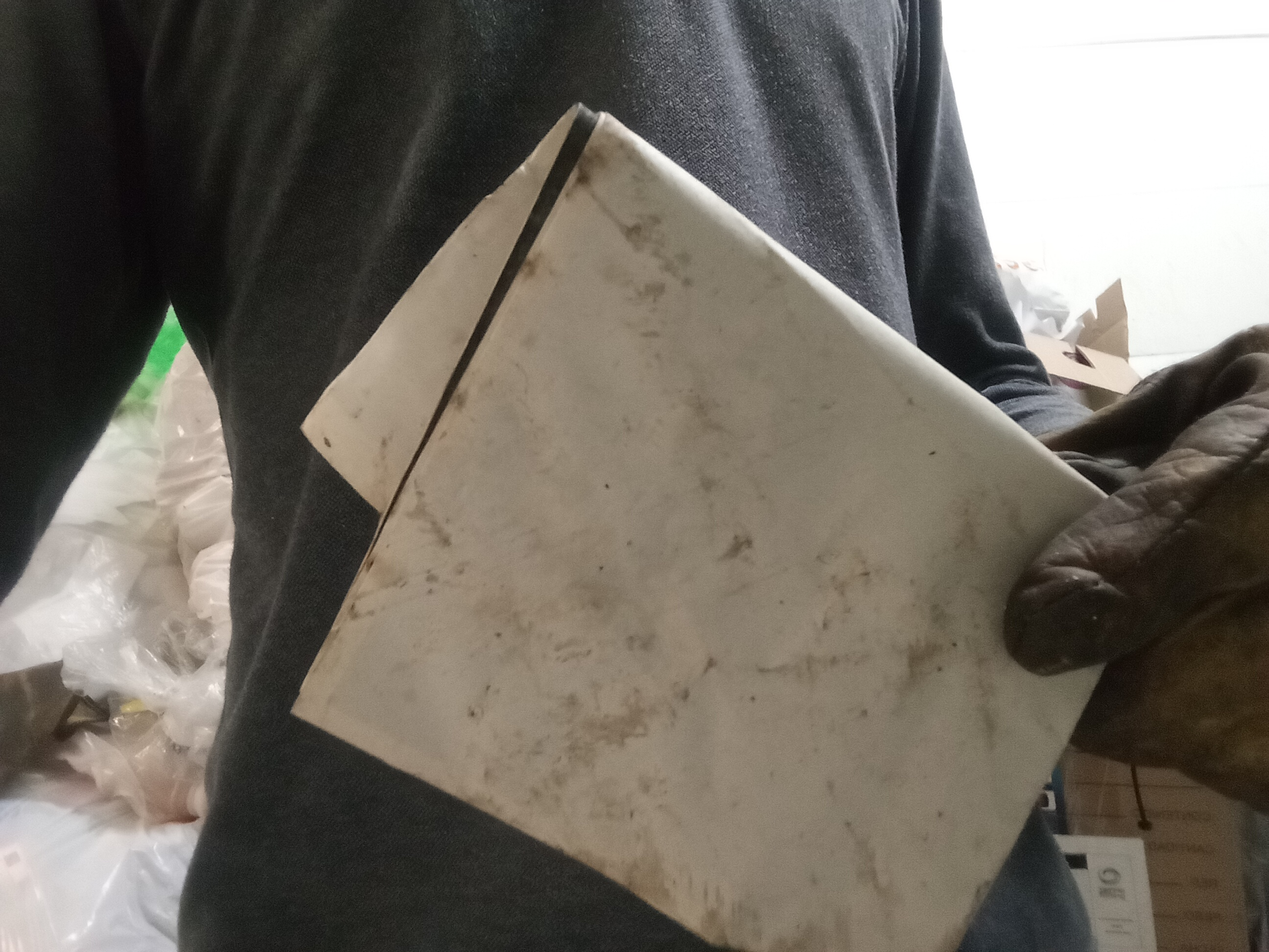Papel: (291, 102, 1110, 952)
